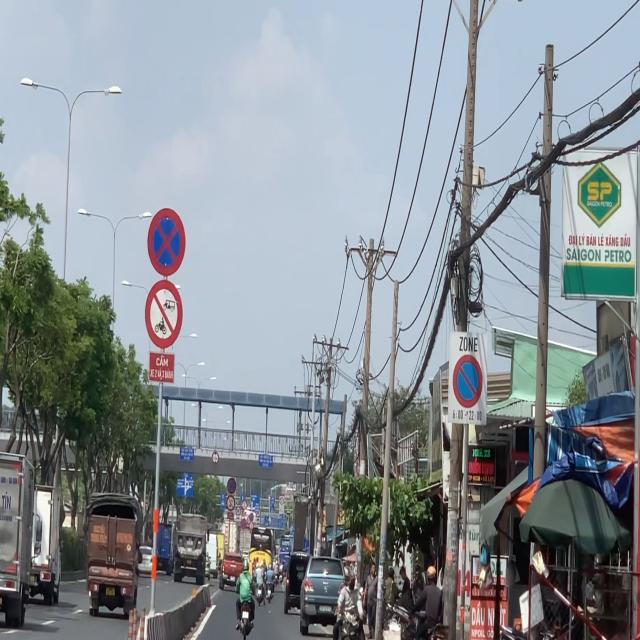Cam do: (452, 354, 482, 408)
Cam dung va do: (147, 208, 186, 276), (227, 478, 236, 493)
Chieu cao toi da: (212, 452, 219, 464)
